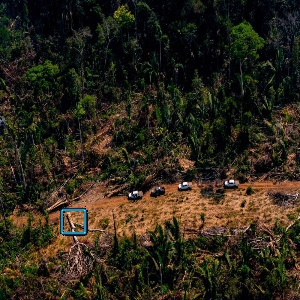square: (59, 207, 88, 236)
